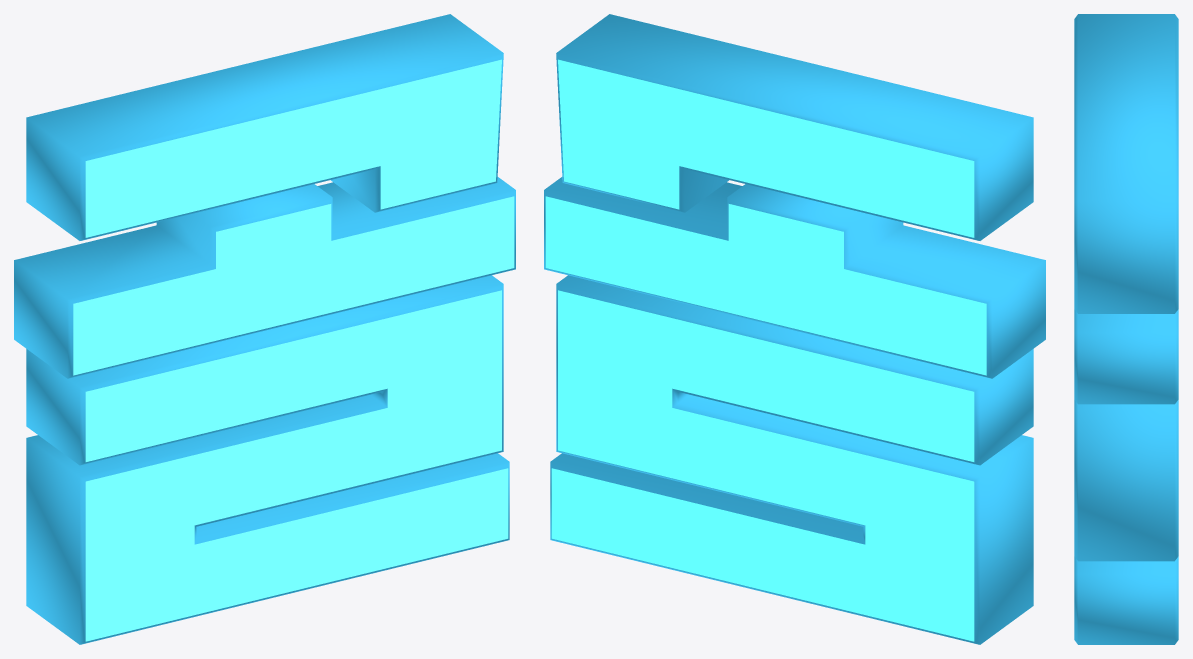
The model's file is u_ace8_b.glb.
3 renders of one model, left to right at view 1: azimuth 30°, elevation 25°; view 2: azimuth 150°, elevation 25°; view 3: azimuth 270°, elevation 25°, orthographic. The views are drawn at different scales.
Parts seen in each view (by area): view 1: glyph; view 2: glyph; view 3: glyph.
Boxes of the visible parts, bbox=[...] form: glyph: bbox=[14, 14, 515, 644]; glyph: bbox=[544, 14, 1045, 644]; glyph: bbox=[1074, 14, 1178, 644].
Bounding box in the file's own units: 0.0726 × 0.0756 × 0.0162.
